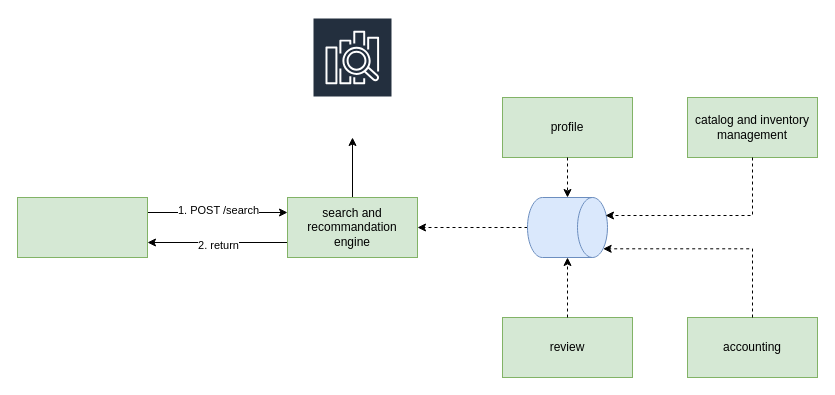
Image size: 835x395. Some labels were removed from this diagram. Each missing label, with the centre of its shape:
Amazon Elasticsearch Service: the point at 352,77
Queue: the point at 567,227
web application: the point at 82,227
